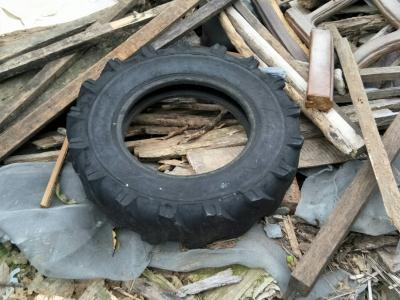tire: (62, 38, 304, 248)
